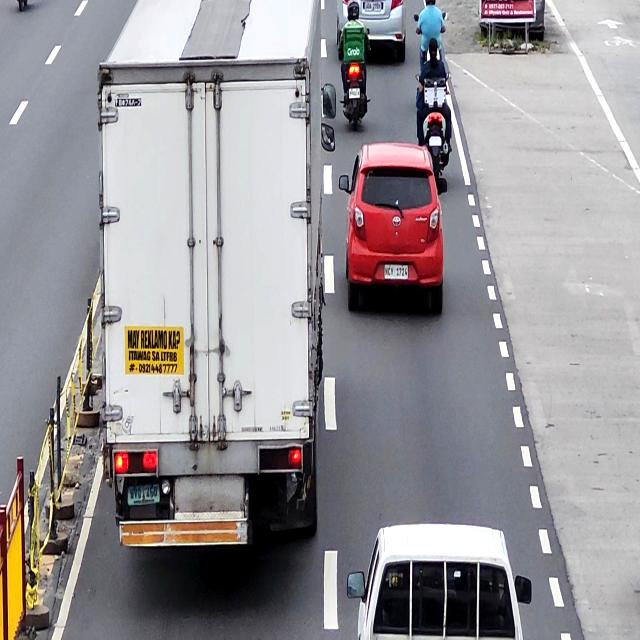Car: (349, 520, 534, 640), (338, 142, 447, 317), (335, 0, 408, 68)
License-Plate: (128, 484, 158, 506), (384, 264, 408, 280), (363, 0, 382, 14), (428, 135, 442, 147), (348, 87, 361, 98)
Motorcycle: (415, 71, 453, 187), (339, 27, 369, 132)
Truck: (96, 0, 336, 560)
